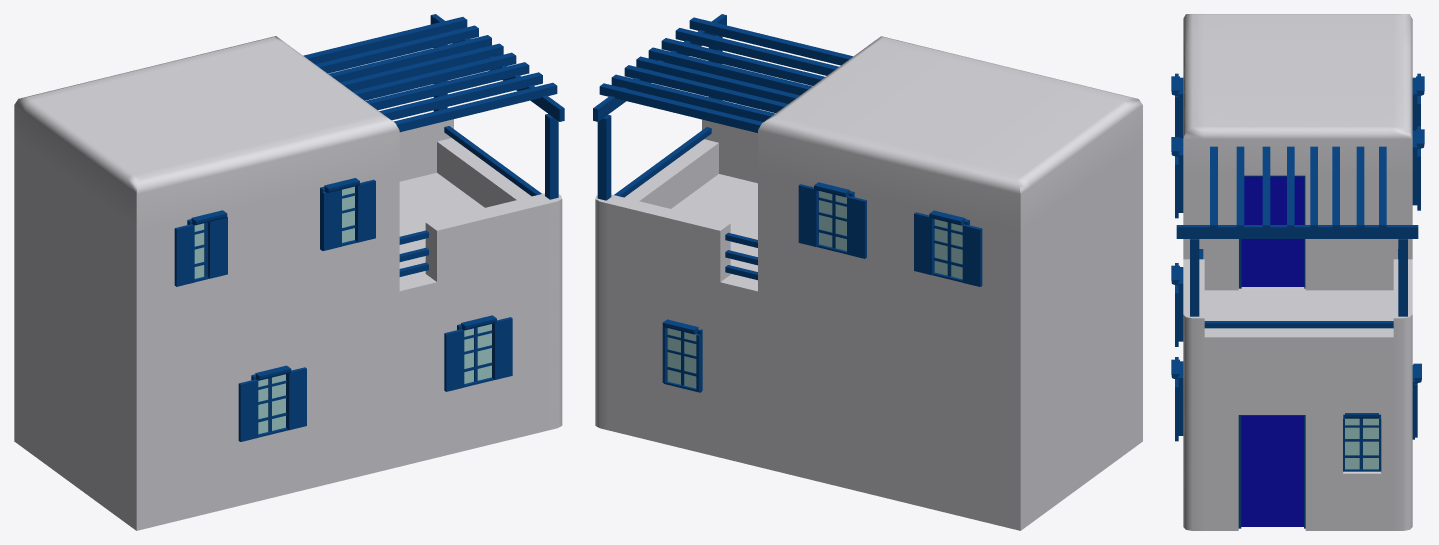
File: House02.fbx
The picture shows the model from 3 angles, left to right: view 1: azimuth 30°, elevation 25°; view 2: azimuth 150°, elevation 25°; view 3: azimuth 270°, elevation 25°; orthographic projection. The views are drawn at different scales.
Visible parts, largest first — view 1: House, Window9, Window10, Window8, Window7; view 2: House, Window6, Window5, Window4; view 3: House, Door, House2_1_Door2, Window1, Window5, Window10, Window9, Window8, Window7, Window6, Window4.
Boxes of the visible parts, bbox=[...] form: House: bbox=[14, 14, 564, 530]; Window9: bbox=[238, 365, 306, 441]; Window10: bbox=[444, 315, 512, 391]; Window8: bbox=[320, 178, 375, 250]; Window7: bbox=[174, 210, 227, 286]; House: bbox=[593, 14, 1142, 530]; Window6: bbox=[914, 210, 982, 286]; Window5: bbox=[798, 182, 866, 258]; Window4: bbox=[662, 319, 702, 392]; House: bbox=[1176, 14, 1418, 530]; Door: bbox=[1238, 415, 1305, 528]; House2_1_Door2: bbox=[1239, 175, 1305, 288]; Window1: bbox=[1343, 413, 1381, 471]; Window5: bbox=[1412, 126, 1424, 210]; Window10: bbox=[1171, 357, 1183, 441]; Window9: bbox=[1171, 263, 1183, 346]; Window8: bbox=[1171, 137, 1183, 218]; Window7: bbox=[1171, 73, 1183, 138]; Window6: bbox=[1412, 73, 1424, 130]; Window4: bbox=[1412, 363, 1421, 439].
Bounding box in the file's own units: 23.69 × 18 × 12.73.
